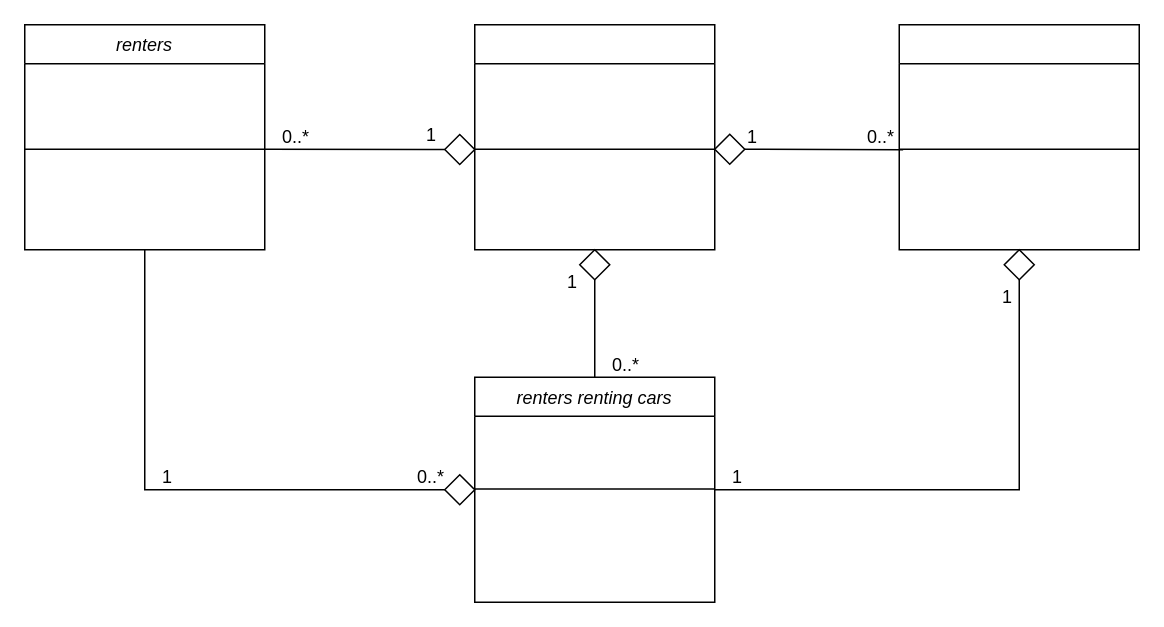
The diagram is 1164 pixels wide and 627 high, and some of its shapes have lost their labels. The shapes that lost their labels are listed below. From the top down, each one's centre as x and y in pixels, then its label:
At point 594,136: "car rental company".
At point 1018,136: "cars".
